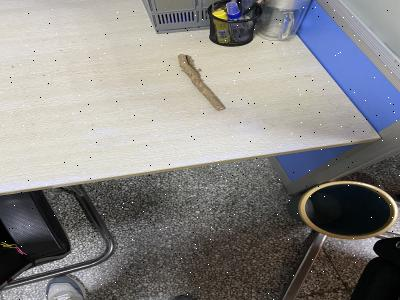Root: (178, 54, 225, 110)
